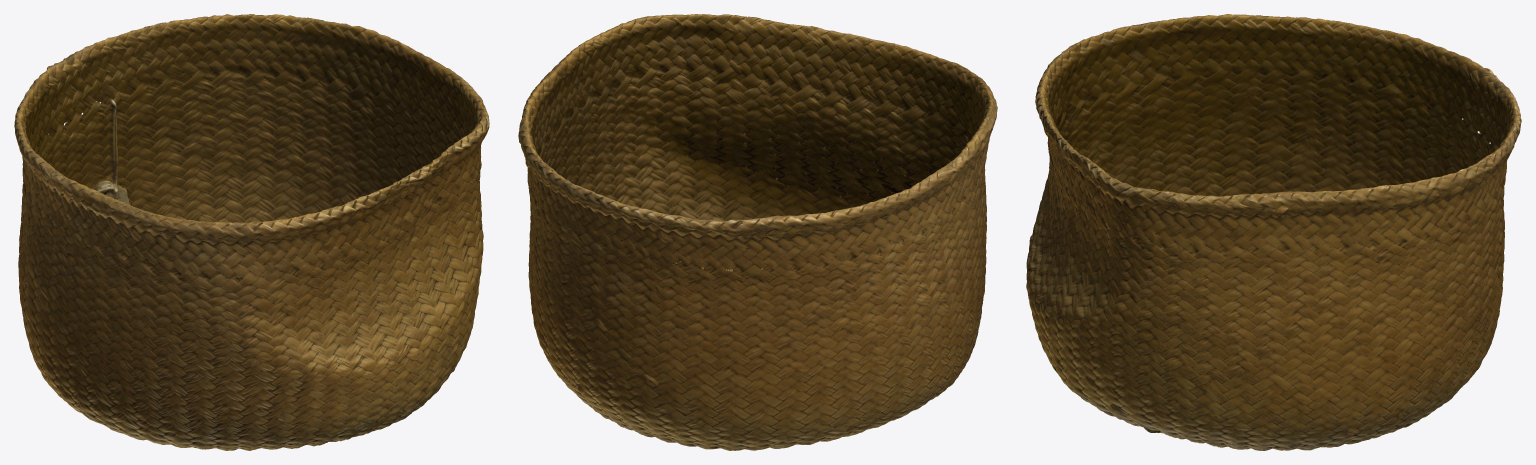
The model's file is basket.glb.
3 renders of one model, left to right at view 1: azimuth 30°, elevation 25°; view 2: azimuth 150°, elevation 25°; view 3: azimuth 270°, elevation 25°, orthographic. The views are drawn at different scales.
Parts seen in each view (by area): view 1: Object_2, Object_7, Object_4, Object_6, Object_5, Object_3; view 2: Object_6, Object_2, Object_7, Object_4, Object_5, Object_3; view 3: Object_2, Object_7, Object_4, Object_5, Object_3, Object_6.
Boxes of the visible parts, bbox=[...] form: Object_2: bbox=[26, 14, 489, 433]; Object_7: bbox=[16, 112, 470, 444]; Object_4: bbox=[30, 20, 481, 450]; Object_6: bbox=[14, 43, 134, 381]; Object_5: bbox=[39, 70, 299, 391]; Object_3: bbox=[16, 15, 487, 258]; Object_6: bbox=[569, 117, 995, 442]; Object_2: bbox=[518, 14, 816, 272]; Object_7: bbox=[702, 14, 997, 329]; Object_4: bbox=[520, 143, 982, 450]; Object_5: bbox=[528, 201, 981, 387]; Object_3: bbox=[519, 23, 848, 250]; Object_2: bbox=[1026, 48, 1503, 429]; Object_7: bbox=[1026, 15, 1429, 286]; Object_4: bbox=[1075, 100, 1510, 450]; Object_5: bbox=[1274, 132, 1504, 404]; Object_3: bbox=[1036, 35, 1521, 253]; Object_6: bbox=[1219, 14, 1518, 356].
Bounding box in the file's own units: 2.25 × 1.52 × 2.37.
4 materials, 4 textured.
